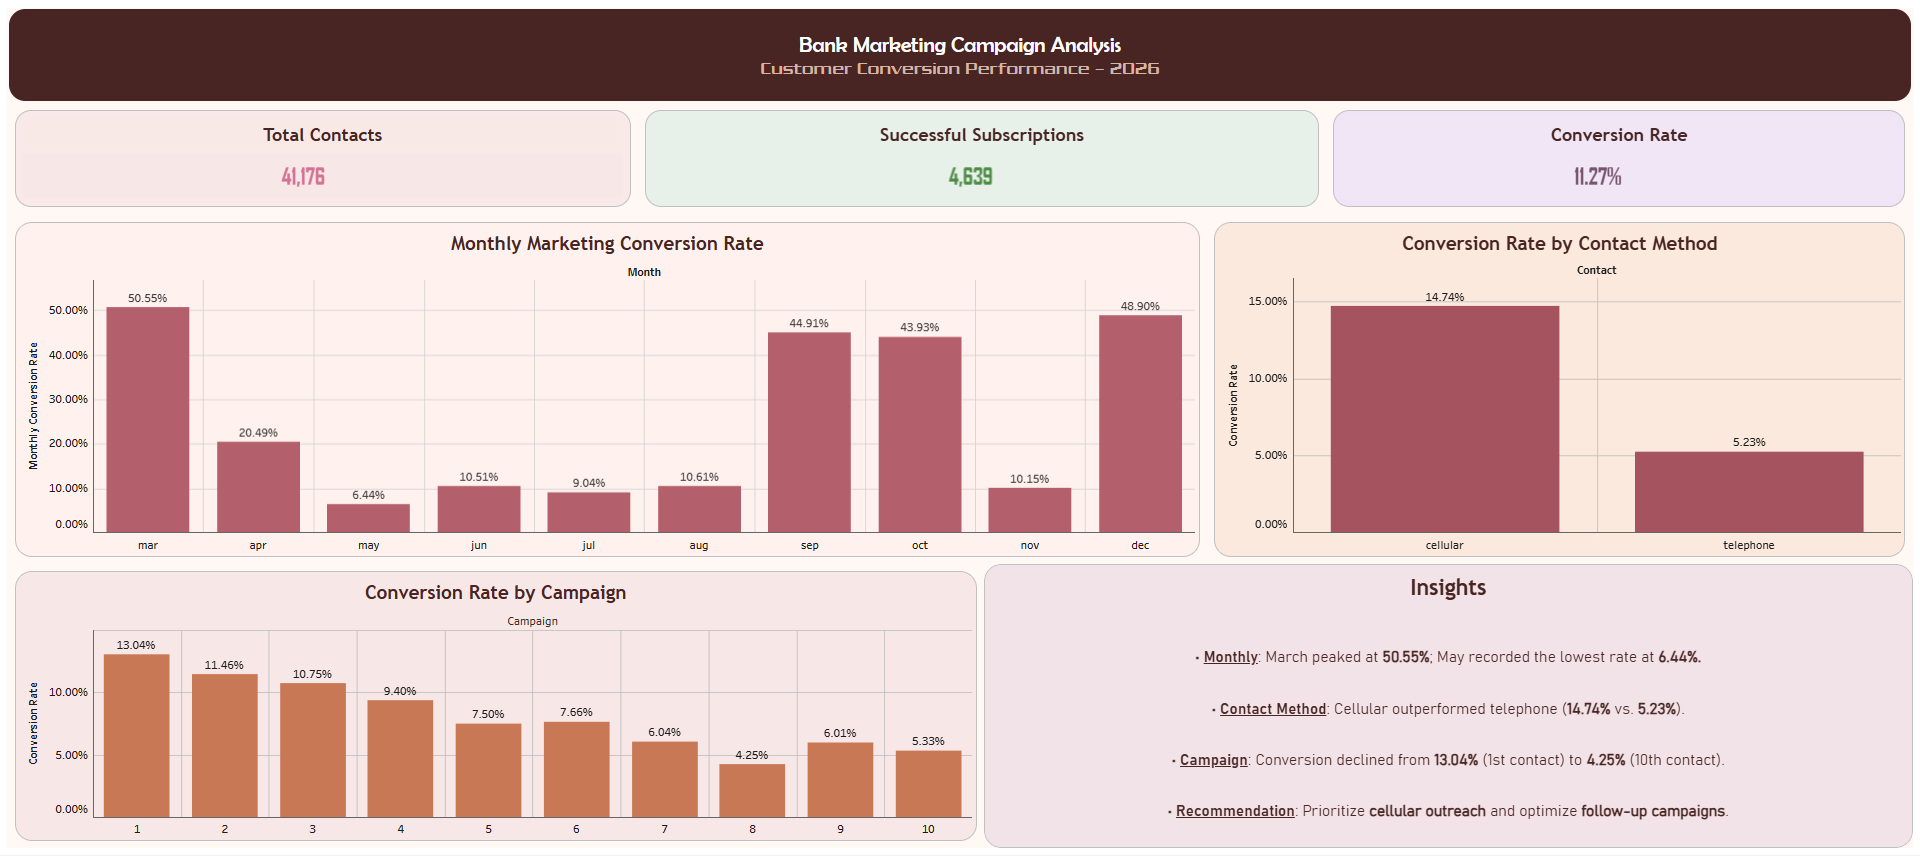

This screenshot's page, from the dashboard's own definition file:
{"tool":"tableau","page":{"name":"Bank Marketing Campaign Analysis","canvas":[650,860],"ordinal":0},"visuals":[{"type":"text","box":[8,8,634,83]},{"type":"worksheet","title":"Total Contacts","mark":"Automatic","box":[8,91,234,190.3]},{"type":"worksheet","title":"Successful Subcriptions","mark":"Automatic","box":[242,91,241.5,190.3]},{"type":"worksheet","title":"Conversion Rate","mark":"Automatic","box":[483.5,91,158.5,190.3]},{"type":"worksheet","title":"Monthly Marketing Conversion Rate","mark":"Bar","rows":["Calculation_1613867101134851"],"cols":["month"],"box":[8,281.3,317,380.5]},{"type":"worksheet","title":"Conversion Rate by Contact Method","mark":"Bar","rows":["Calculation_1613867057975298"],"cols":["contact"],"box":[325,281.3,317,380.5]},{"type":"worksheet","title":"Conversion Rate by Campaign","mark":"Bar","rows":["Calculation_1613867057975298"],"cols":["campaign"],"box":[8,661.8,317,190.2]},{"type":"text","box":[325,661.8,317,190.2]}]}

Visuals, with their boxes on the page's 650x860 design canvas (x1, y1, x2, y2). These are canvas units, not pixel positions in the 1920x856 screenshot, which may show the page scaled, cropped or inside an application window:
text: (x1=8, y1=8, x2=642, y2=91)
"Total Contacts" worksheet: (x1=8, y1=91, x2=242, y2=281)
"Successful Subcriptions" worksheet: (x1=242, y1=91, x2=484, y2=281)
"Conversion Rate" worksheet: (x1=484, y1=91, x2=642, y2=281)
"Monthly Marketing Conversion Rate" worksheet (Bar marks): (x1=8, y1=281, x2=325, y2=662)
"Conversion Rate by Contact Method" worksheet (Bar marks): (x1=325, y1=281, x2=642, y2=662)
"Conversion Rate by Campaign" worksheet (Bar marks): (x1=8, y1=662, x2=325, y2=852)
text: (x1=325, y1=662, x2=642, y2=852)
